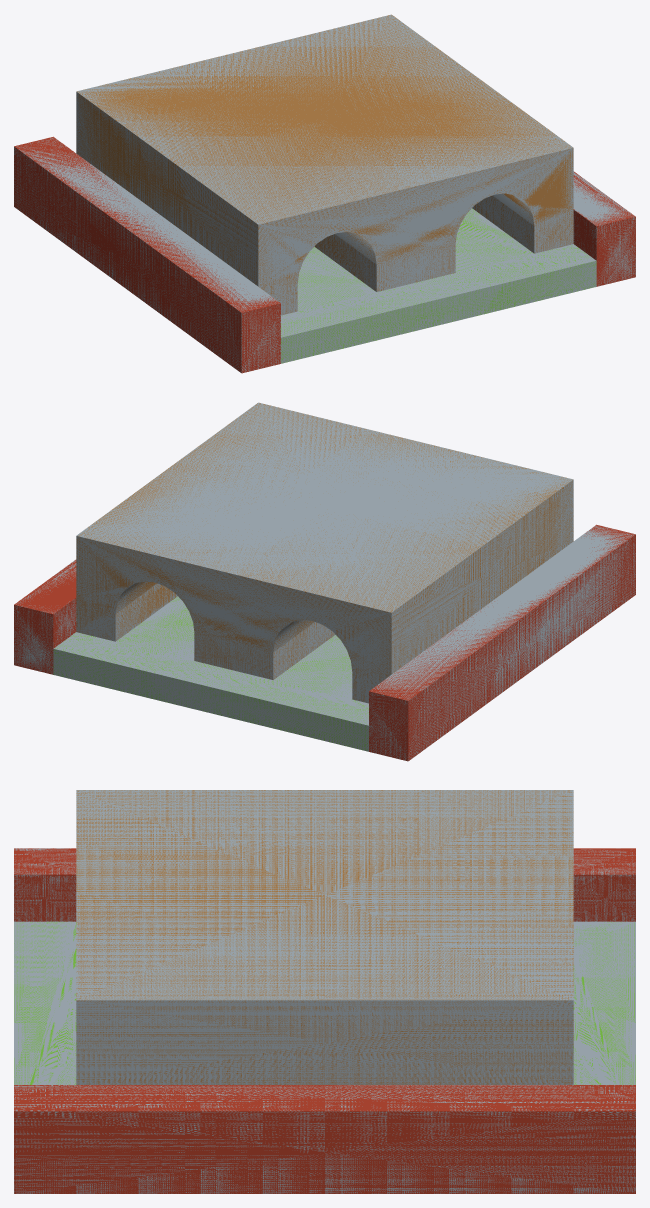
The model's file is Tunnel_double_01.obj.
The picture shows the model from 3 angles, top to bottom: view 1: azimuth 30°, elevation 25°; view 2: azimuth 150°, elevation 25°; view 3: azimuth 270°, elevation 25°; orthographic projection. The views are drawn at different scales.
Parts seen in each view (by area): view 1: BackColor.BackColor.BackColor.BackColor.BackColor.BackColor.Back, Brown.Brown.Brown.Brown.Brown.Brown.Brown.Brown.Brown.Brown.Brow, Red.Red.Red.Red.Red.Red.Red.Red.Red.Red.Red.Red.Red.Red.Red.Mesh, Green.Green.Green.Green.Green.Green.Green.Green.Green.Green.Gree; view 2: BackColor.BackColor.BackColor.BackColor.BackColor.BackColor.Back, Brown.Brown.Brown.Brown.Brown.Brown.Brown.Brown.Brown.Brown.Brow, Red.Red.Red.Red.Red.Red.Red.Red.Red.Red.Red.Red.Red.Red.Red.Mesh, Green.Green.Green.Green.Green.Green.Green.Green.Green.Green.Gree; view 3: BackColor.BackColor.BackColor.BackColor.BackColor.BackColor.Back, Brown.Brown.Brown.Brown.Brown.Brown.Brown.Brown.Brown.Brown.Brow, Red.Red.Red.Red.Red.Red.Red.Red.Red.Red.Red.Red.Red.Red.Red.Mesh, Green.Green.Green.Green.Green.Green.Green.Green.Green.Green.Gree.
Part boxes in pixels (left/top/right/bottom): BackColor.BackColor.BackColor.BackColor.BackColor.BackColor.Back: left=14, top=14, right=635, bottom=372; Brown.Brown.Brown.Brown.Brown.Brown.Brown.Brown.Brown.Brown.Brow: left=76, top=14, right=573, bottom=314; Red.Red.Red.Red.Red.Red.Red.Red.Red.Red.Red.Red.Red.Red.Red.Mesh: left=14, top=136, right=635, bottom=373; Green.Green.Green.Green.Green.Green.Green.Green.Green.Green.Gree: left=281, top=208, right=596, bottom=363; BackColor.BackColor.BackColor.BackColor.BackColor.BackColor.Back: left=14, top=402, right=635, bottom=760; Brown.Brown.Brown.Brown.Brown.Brown.Brown.Brown.Brown.Brown.Brow: left=76, top=403, right=573, bottom=702; Red.Red.Red.Red.Red.Red.Red.Red.Red.Red.Red.Red.Red.Red.Red.Mesh: left=14, top=524, right=635, bottom=761; Green.Green.Green.Green.Green.Green.Green.Green.Green.Green.Gree: left=53, top=597, right=368, bottom=751; BackColor.BackColor.BackColor.BackColor.BackColor.BackColor.Back: left=14, top=790, right=635, bottom=1193; Brown.Brown.Brown.Brown.Brown.Brown.Brown.Brown.Brown.Brown.Brow: left=76, top=790, right=573, bottom=1084; Red.Red.Red.Red.Red.Red.Red.Red.Red.Red.Red.Red.Red.Red.Red.Mesh: left=14, top=848, right=635, bottom=1193; Green.Green.Green.Green.Green.Green.Green.Green.Green.Green.Gree: left=14, top=921, right=635, bottom=1084.
Size of the model in its own units: 3 by 0.89 by 3.
